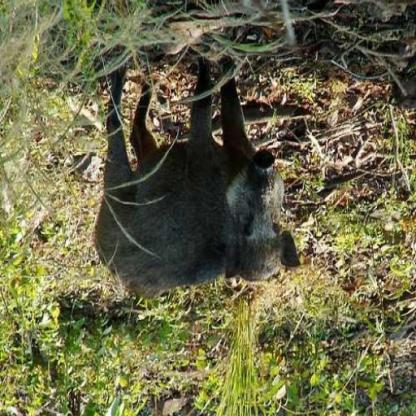boar: (74, 34, 308, 330)
